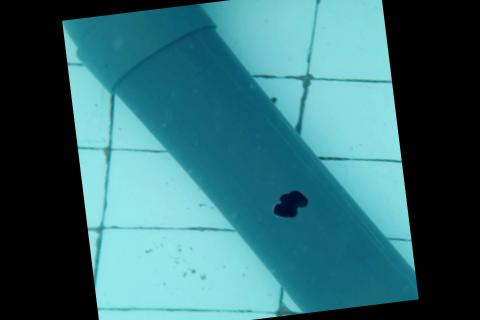kebocoran: (268, 186, 311, 219)
